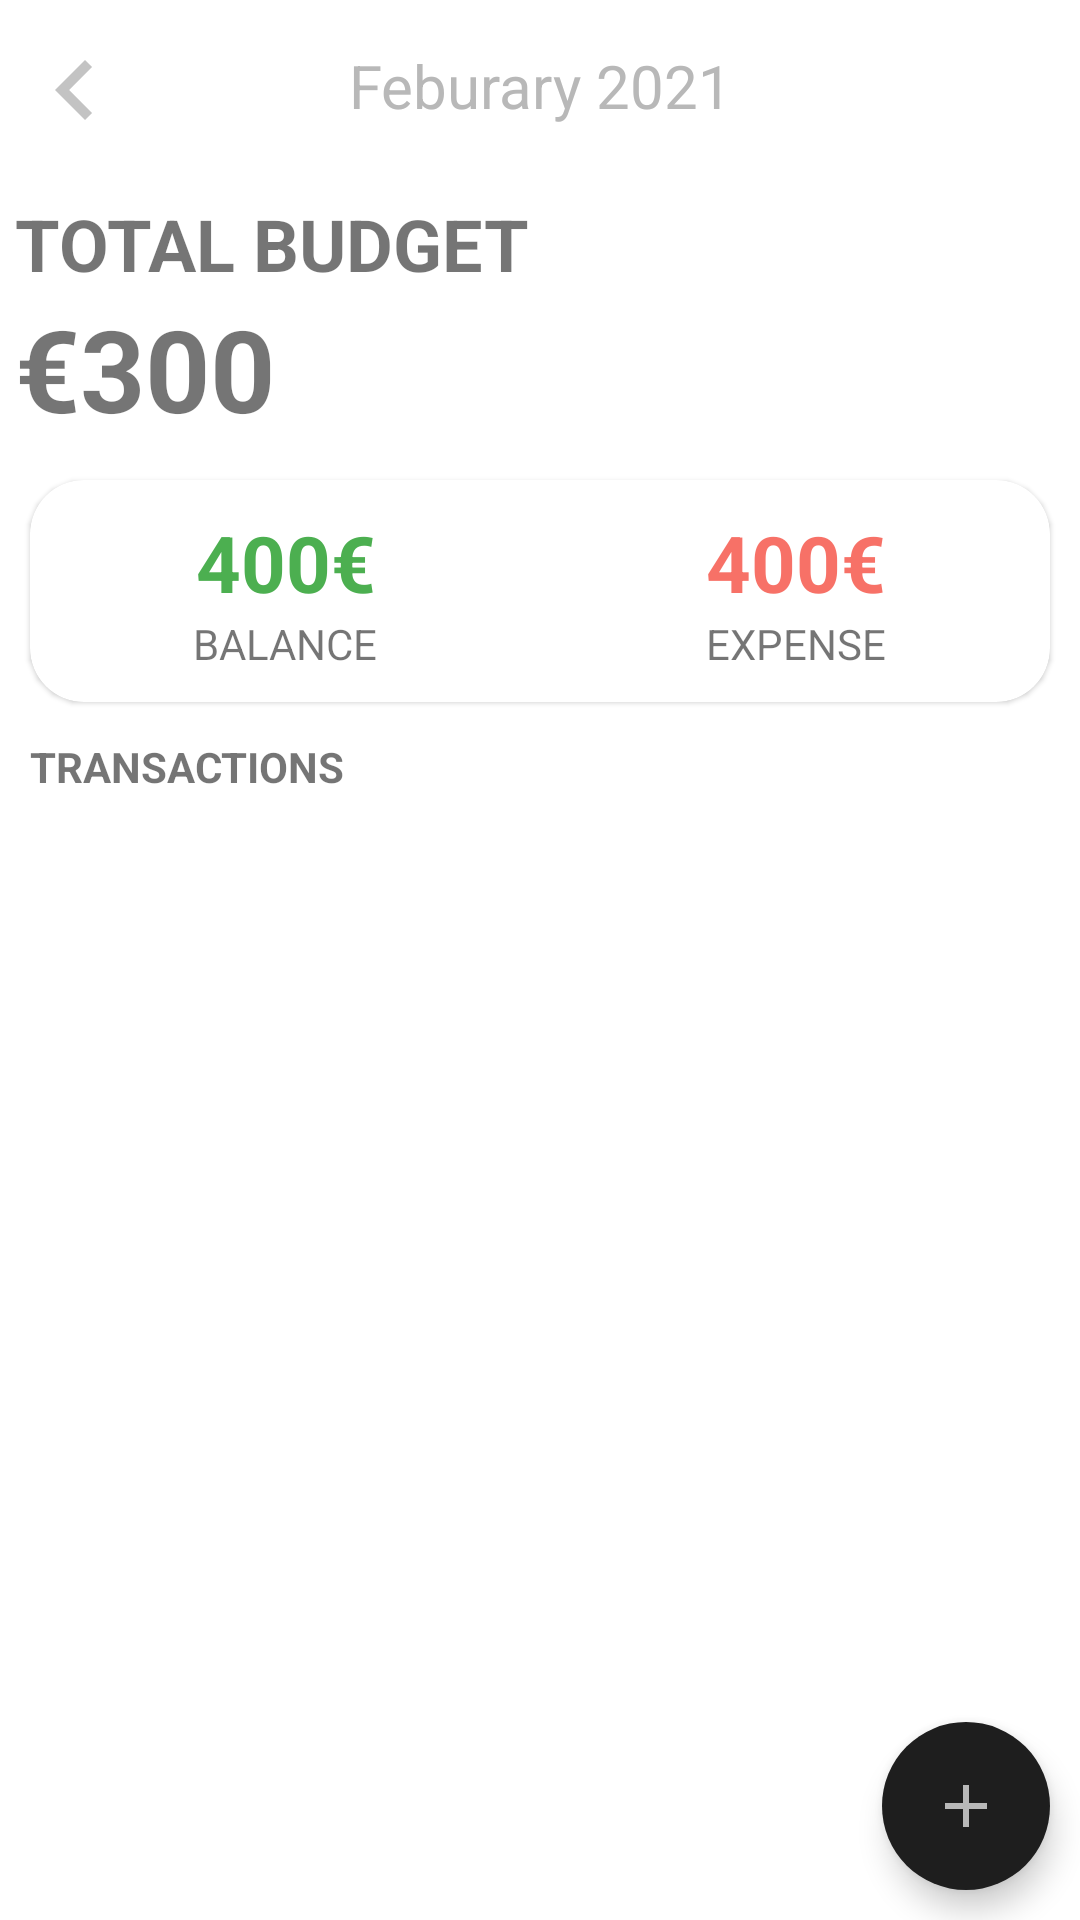

Where to tap for icons on this 1080 × 1920 app screen, as [x,y]:
add: [966,1806]
prev month: [73,90]
